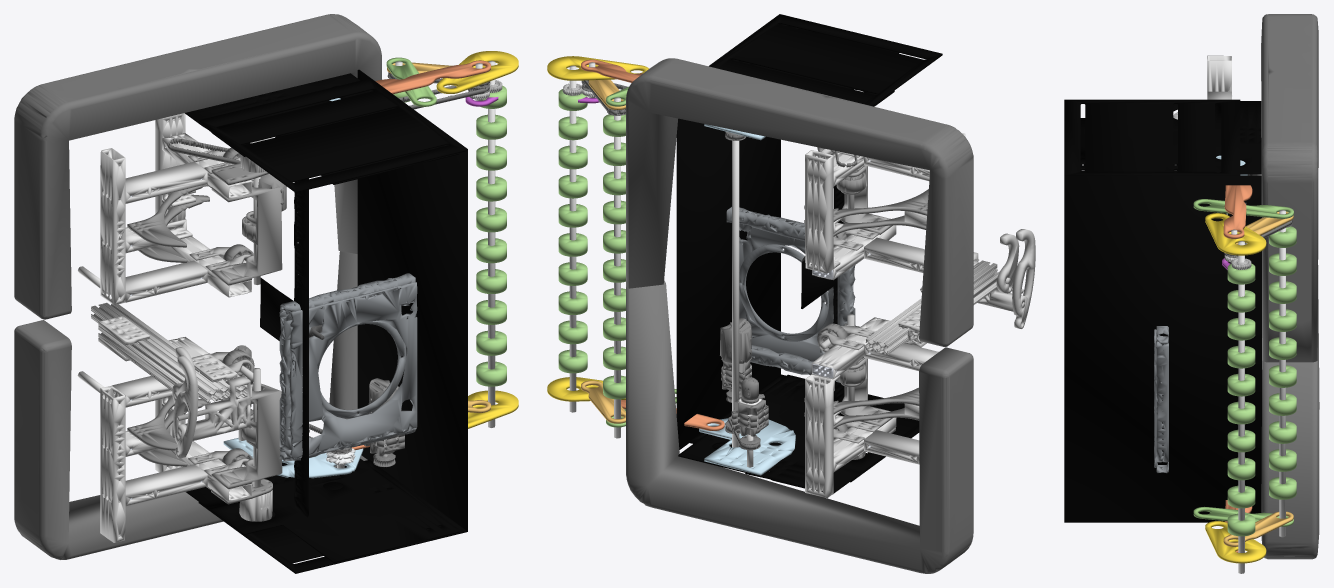
The picture shows the model from 3 angles, left to right: view 1: azimuth 30°, elevation 25°; view 2: azimuth 150°, elevation 25°; view 3: azimuth 270°, elevation 25°; orthographic projection. The views are drawn at different scales.
Parts seen in each view (by area): view 1: 61_Right Bumper, 145_Front panel (The BIG Piece), 12_Left Bumper, 141_Slider panel (will connect to front panel and side panel, 143_Side panels (non-moving), 2382_am-5744 6.875IN Turret Base Plate, 6_Back Panel, 1119_9 2x1, 1241_9 2x1, 923_Big steel braket, 147_Slider panel (will connect to front panel and side panel, 1153_Big steel braket (+41 smaller); view 2: 12_Left Bumper, 61_Right Bumper, 145_Front panel (The BIG Piece), 141_Slider panel (will connect to front panel and side panel, 143_Side panels (non-moving), 1073_9.75 2x1 frame, 1025_9.75 2x1 frame, 2382_am-5744 6.875IN Turret Base Plate, 2049_Part 1, 2023_29in shaft, 2366_am-5745 6.875IN Turret Support Ring, 447_another Hooker (+30 smaller); view 3: 145_Front panel (The BIG Piece), 61_Right Bumper, 141_Slider panel (will connect to front panel and side panel, 12_Left Bumper, 149_Side panels (non-moving), 2336_1x1 Turret Tube (10.5IN), 2085_Part 1, 2165_Part 1, 2075_Part 1, 2139_Part 1, 2122_29in shaft, 2035_Part 2 (+25 smaller).
Boxes of the visible parts, bbox=[...] form: 61_Right Bumper: bbox=[14, 14, 381, 319]; 145_Front panel (The BIG Piece): bbox=[357, 69, 467, 531]; 12_Left Bumper: bbox=[14, 251, 367, 559]; 141_Slider panel (will connect to front panel and side panel: bbox=[198, 78, 466, 192]; 143_Side panels (non-moving): bbox=[186, 458, 459, 562]; 2382_am-5744 6.875IN Turret Base Plate: bbox=[289, 282, 417, 459]; 6_Back Panel: bbox=[260, 178, 308, 517]; 1119_9 2x1: bbox=[100, 148, 125, 305]; 1241_9 2x1: bbox=[100, 385, 125, 542]; 923_Big steel braket: bbox=[211, 180, 282, 285]; 147_Slider panel (will connect to front panel and side panel: bbox=[198, 459, 466, 573]; 1153_Big steel braket: bbox=[211, 383, 282, 489]; 12_Left Bumper: bbox=[626, 280, 973, 573]; 61_Right Bumper: bbox=[626, 58, 973, 346]; 145_Front panel (The BIG Piece): bbox=[676, 14, 780, 449]; 141_Slider panel (will connect to front panel and side panel: bbox=[710, 14, 942, 106]; 143_Side panels (non-moving): bbox=[678, 374, 904, 493]; 1073_9.75 2x1 frame: bbox=[805, 374, 833, 498]; 1025_9.75 2x1 frame: bbox=[805, 150, 833, 273]; 2382_am-5744 6.875IN Turret Base Plate: bbox=[739, 223, 833, 361]; 2049_Part 1: bbox=[699, 418, 795, 475]; 2023_29in shaft: bbox=[732, 140, 739, 447]; 2366_am-5745 6.875IN Turret Support Ring: bbox=[739, 244, 829, 341]; 447_another Hooker: bbox=[1012, 229, 1035, 328]; 145_Front panel (The BIG Piece): bbox=[1064, 175, 1261, 522]; 61_Right Bumper: bbox=[1261, 14, 1318, 362]; 141_Slider panel (will connect to front panel and side panel: bbox=[1064, 99, 1240, 175]; 12_Left Bumper: bbox=[1261, 265, 1319, 559]; 149_Side panels (non-moving): bbox=[1080, 101, 1261, 174]; 2336_1x1 Turret Tube (10.5IN): bbox=[1156, 341, 1168, 461]; 2085_Part 1: bbox=[1205, 213, 1266, 255]; 2165_Part 1: bbox=[1205, 521, 1266, 563]; 2075_Part 1: bbox=[1223, 185, 1252, 238]; 2139_Part 1: bbox=[1238, 241, 1244, 573]; 2122_29in shaft: bbox=[1279, 210, 1285, 537]; 2035_Part 2: bbox=[1193, 199, 1293, 218].
Bounding box in the file's own units: 0.9941 × 0.9399 × 0.5246.
